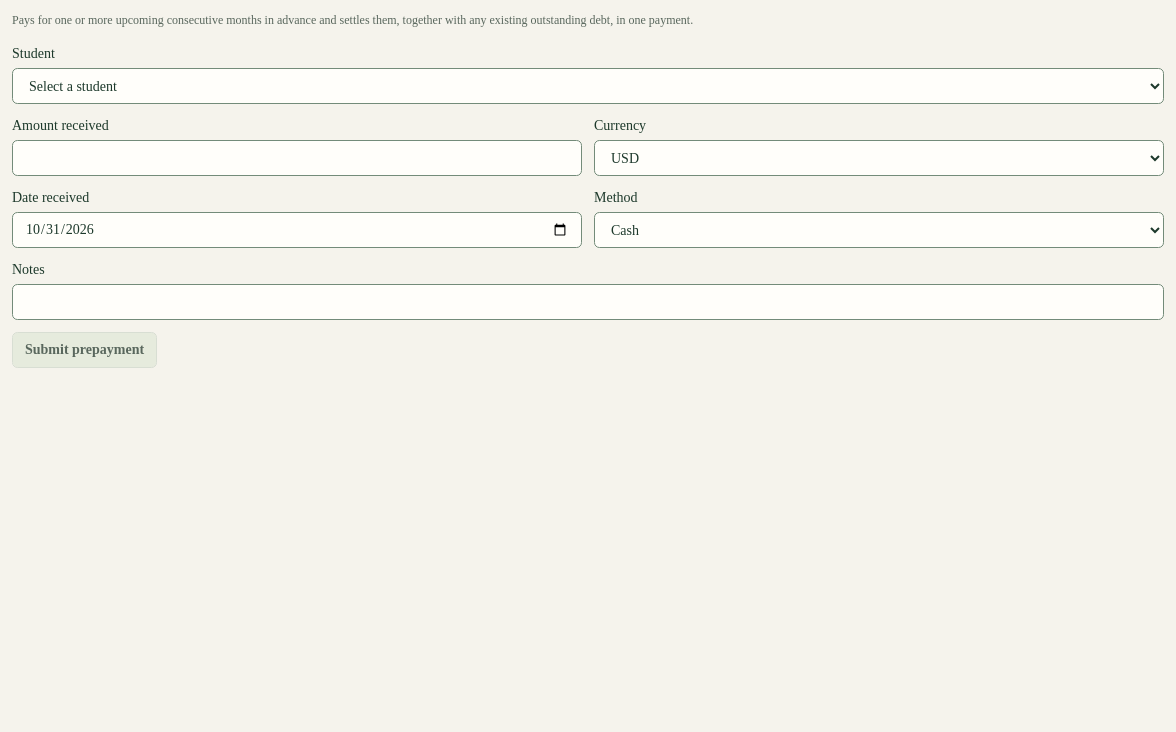
Scenario: basic render and submission › 'Add next month'/'Remove last month' build a consecutive list, with each month's own independently-resolved price shown
This screenshot has width=1176, height=732.
Select "Ana Soto — Alliance" in the dropdown labelled "Student" at (588,86), box [12,68,1164,104]
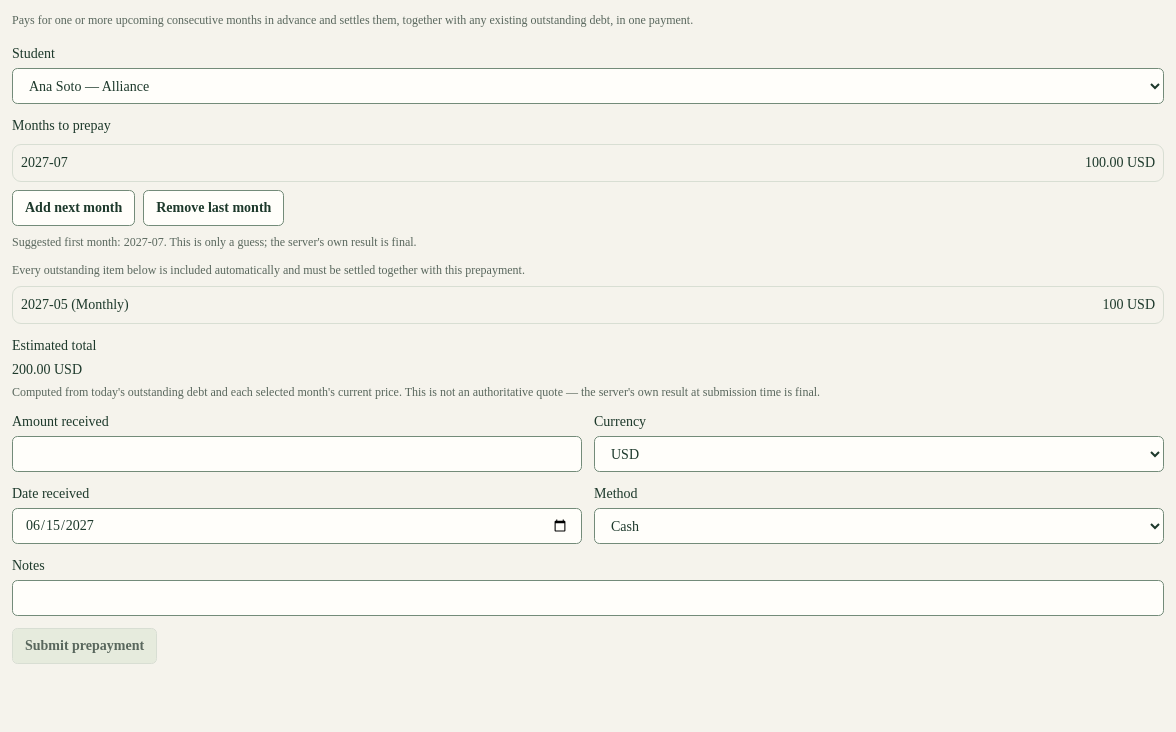
Now the text "100.00 USD" is shown, box [1085,153,1155,173]
Type "200.00" into the field labelled "Amount received".
click(297, 454); type("200.00")  # box [12,436,582,472]
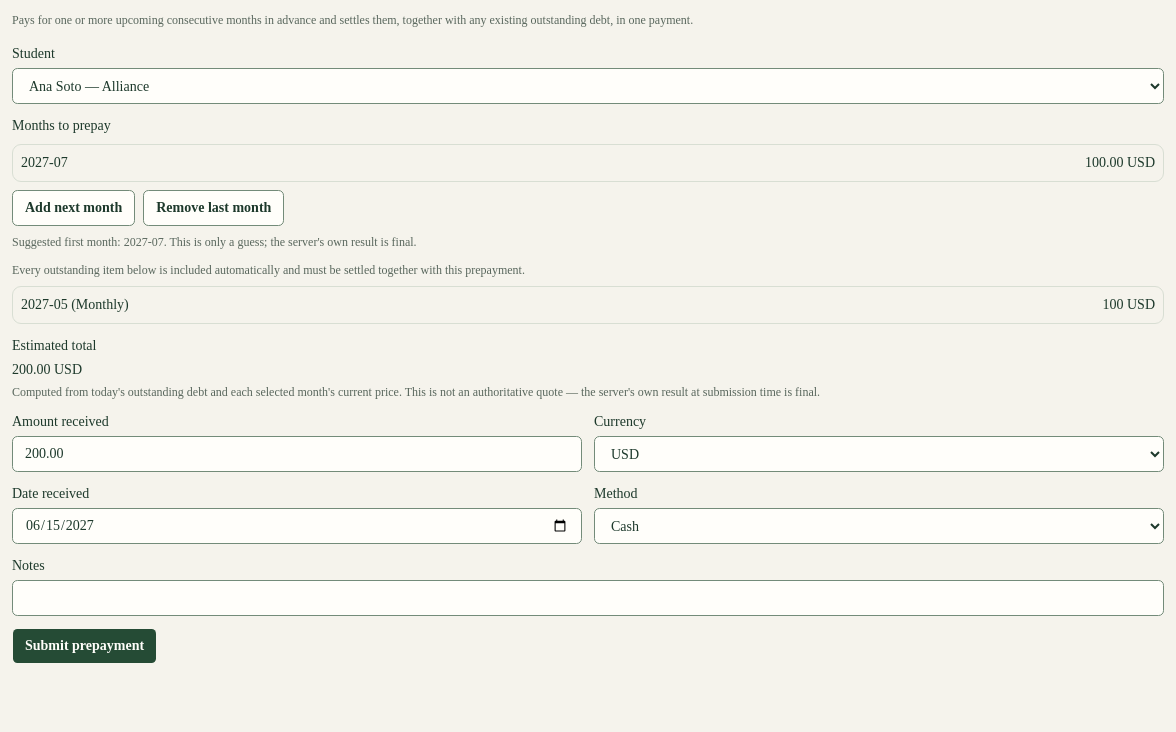
Now the text "2027-07" is shown, box [21,153,68,173]
Click the button "Add next month".
click(74, 208)  # box [12,190,135,226]
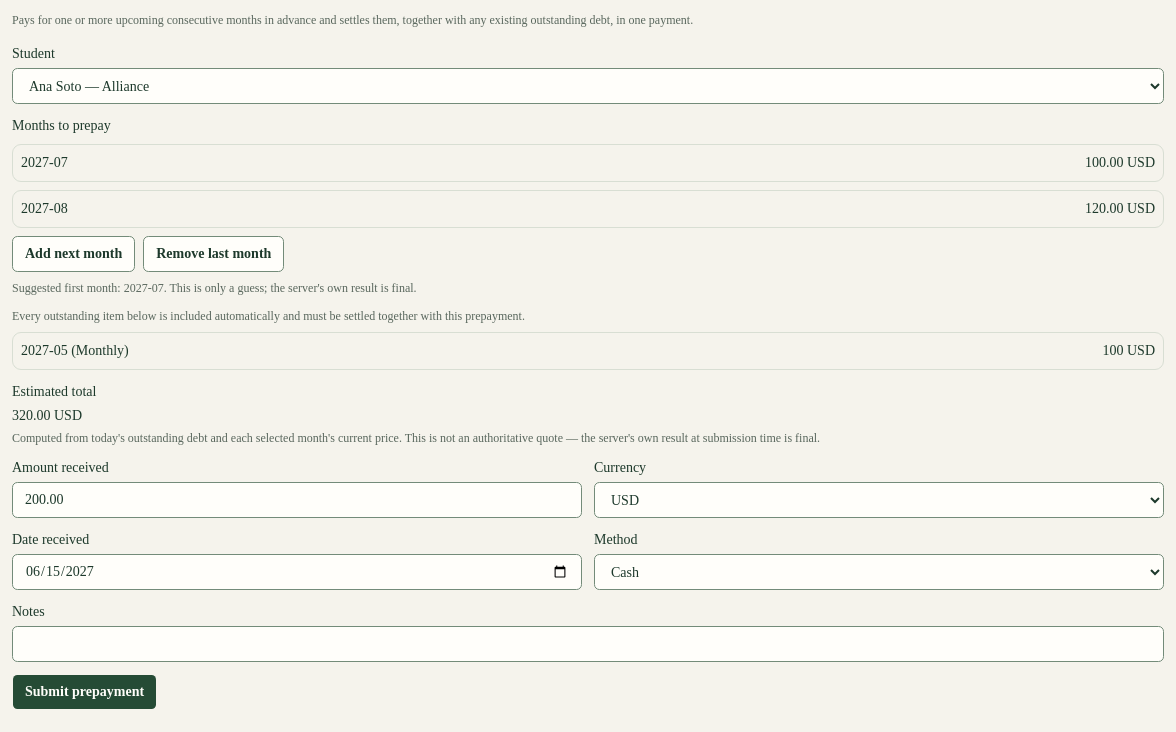
Now the text "2027-08" is shown, box [21,199,68,219]
Now the text "120.00 USD" is shown, box [1085,199,1155,219]
Click the button "Remove last month".
click(214, 254)  # box [143,236,284,272]
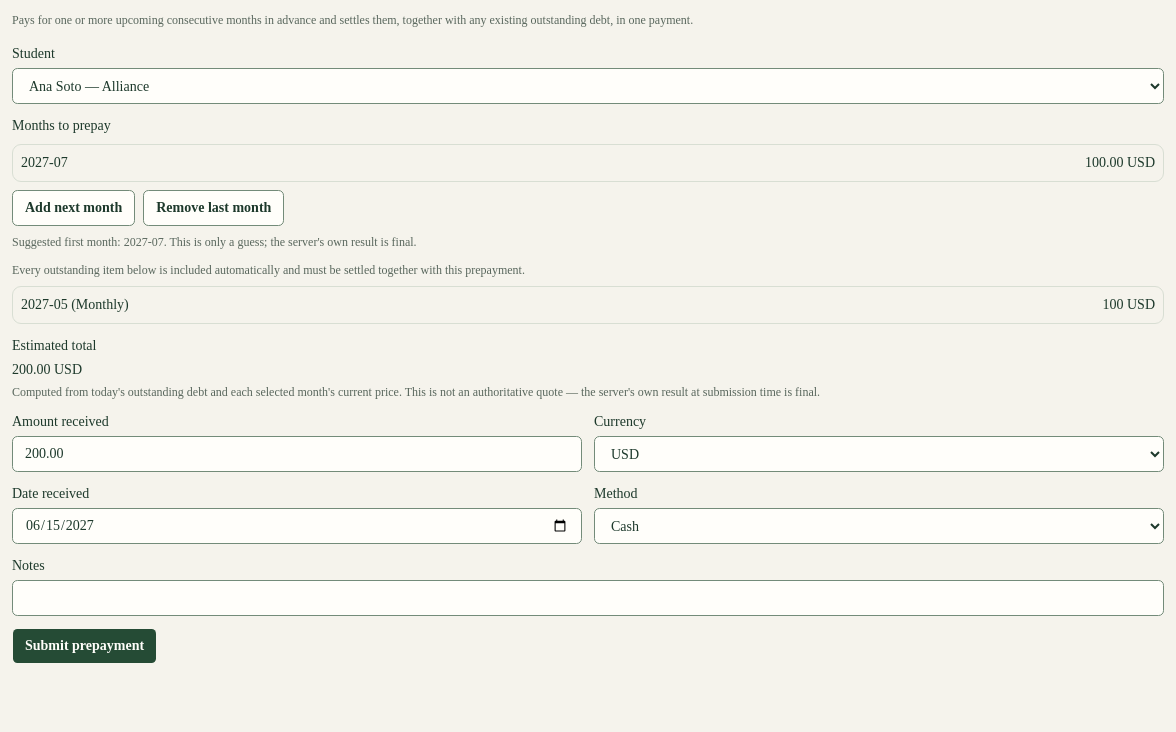
Now the text "2027-08" is gone
